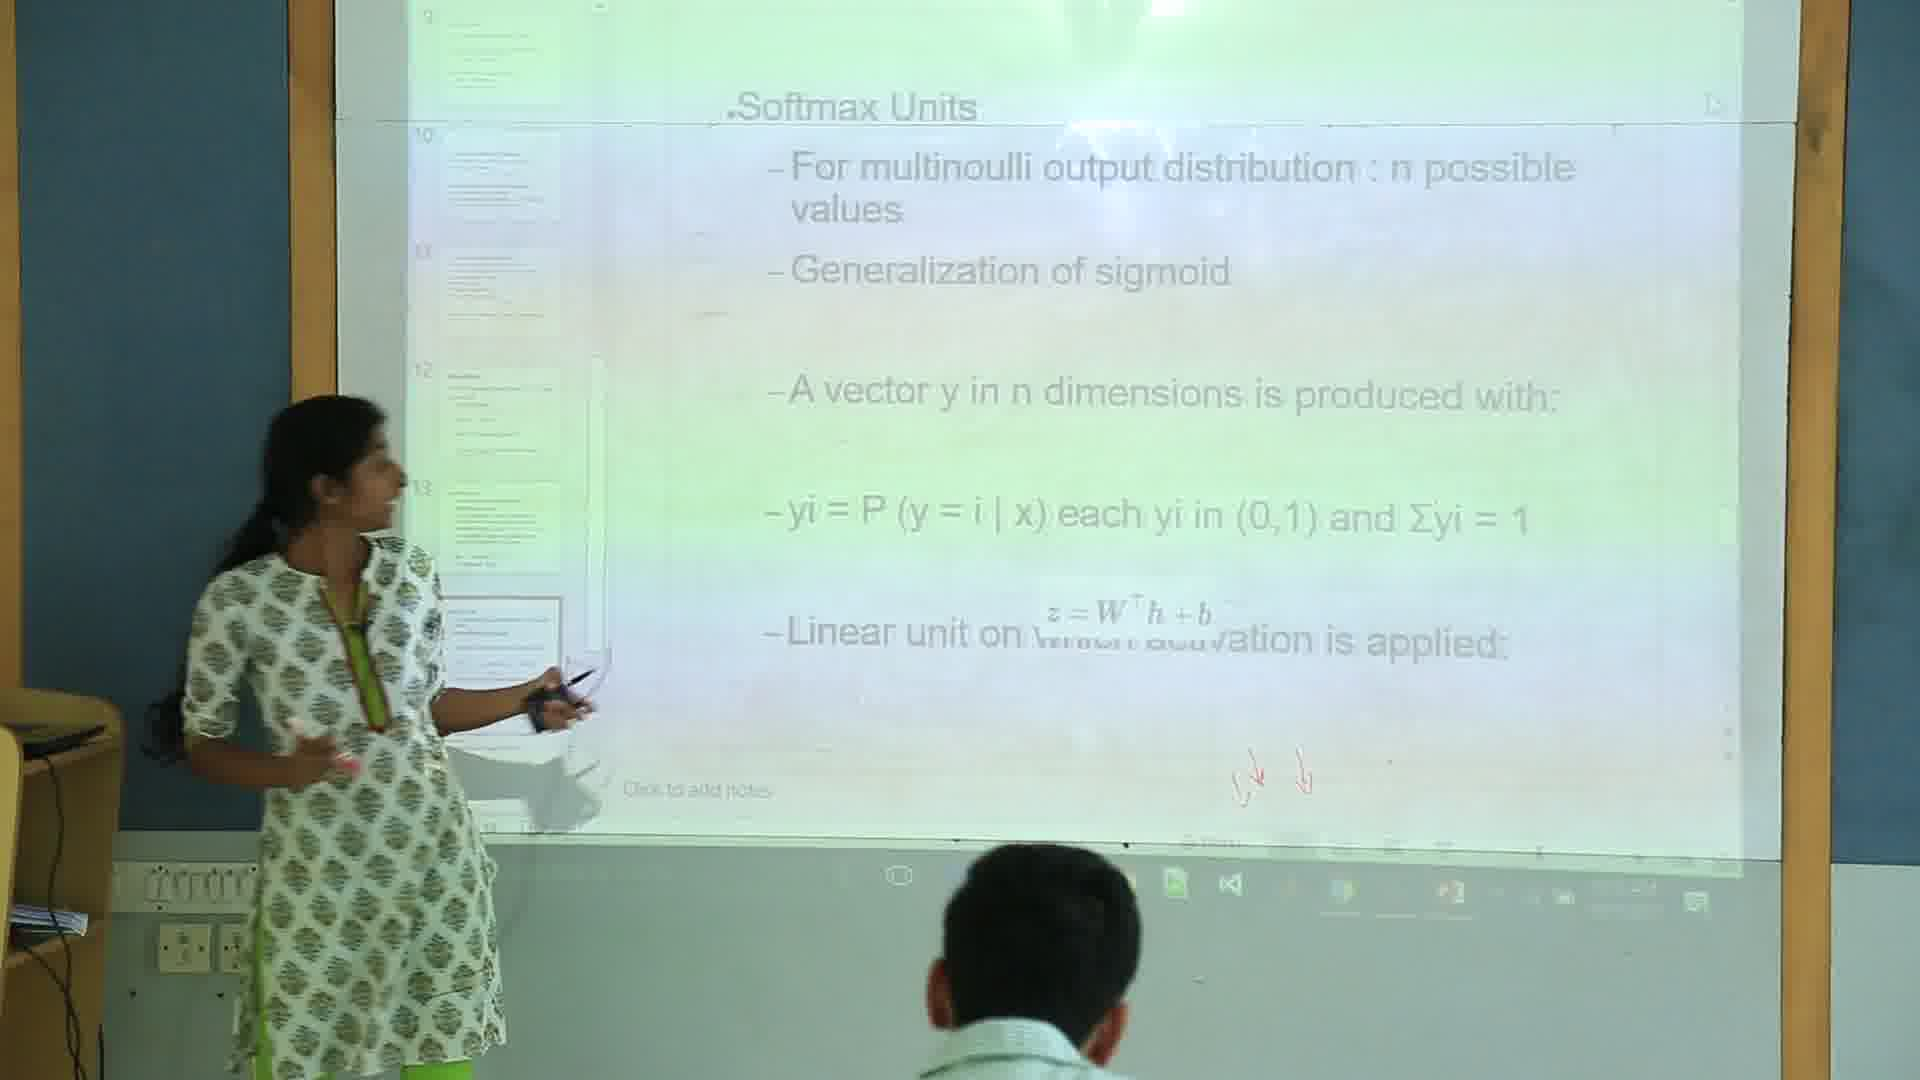eq: (782, 480, 1055, 538), (1039, 575, 1221, 638), (1404, 493, 1536, 541)
